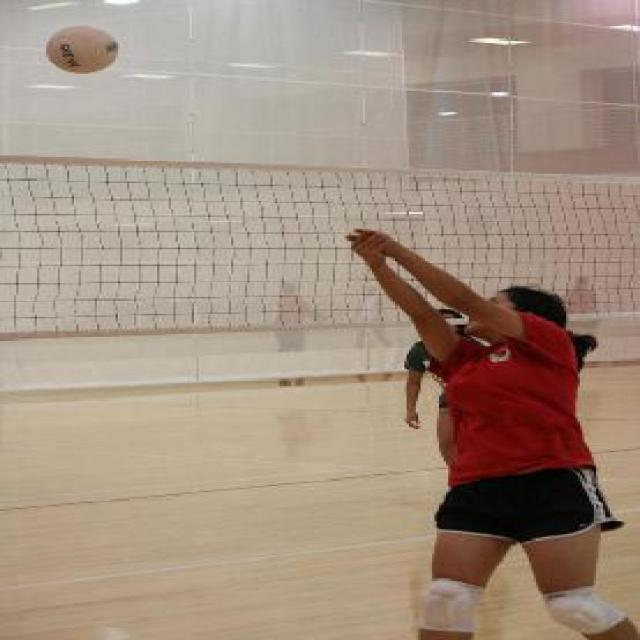volleyball: (46, 25, 116, 71)
